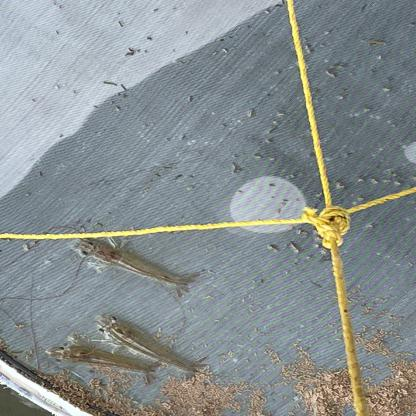shrimp: (94, 315, 211, 382), (72, 236, 199, 297), (43, 345, 167, 385)
